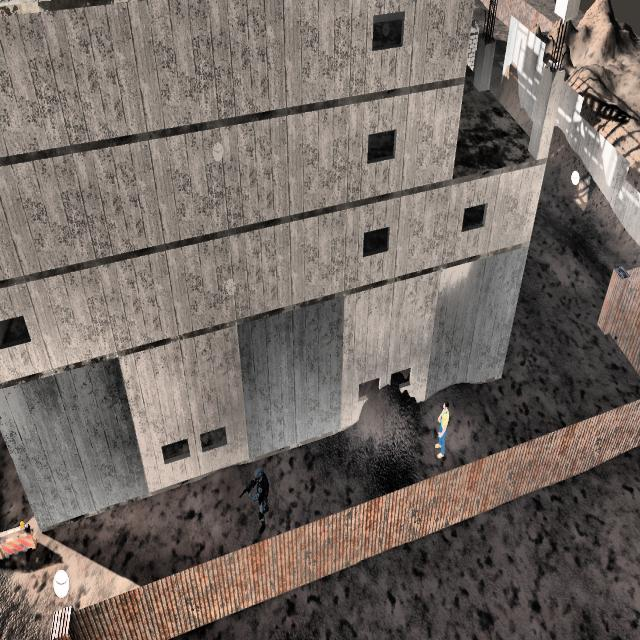bad: (247, 454, 276, 540)
good: (430, 390, 454, 469)
